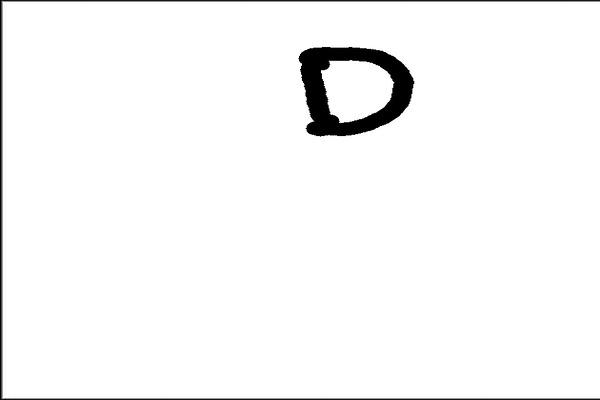D: (294, 39, 418, 146)
